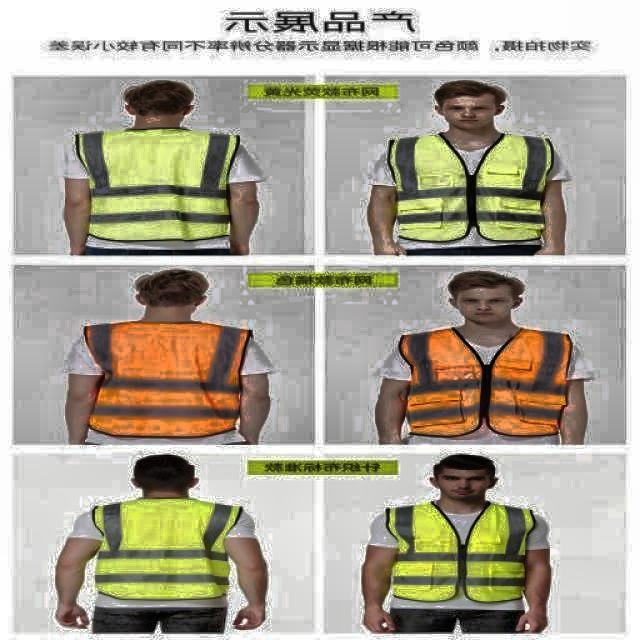safety_jacket: (392, 327, 586, 441), (70, 323, 254, 437), (378, 132, 558, 247), (72, 126, 242, 240), (378, 501, 553, 607), (83, 502, 242, 606)
